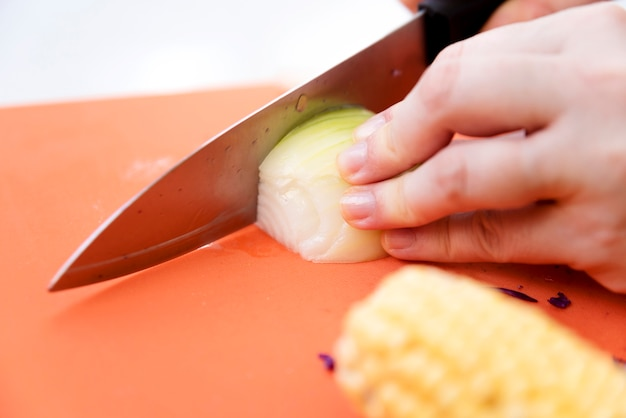knife: (47, 0, 508, 291)
